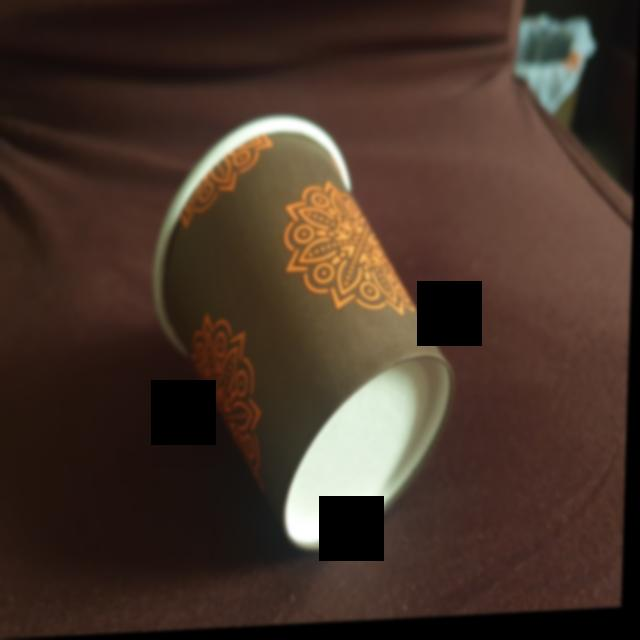cups: (140, 102, 469, 574)
